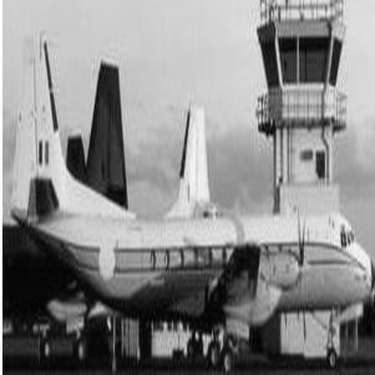airplane: (1, 10, 372, 372), (34, 91, 225, 371), (1, 60, 140, 332)
